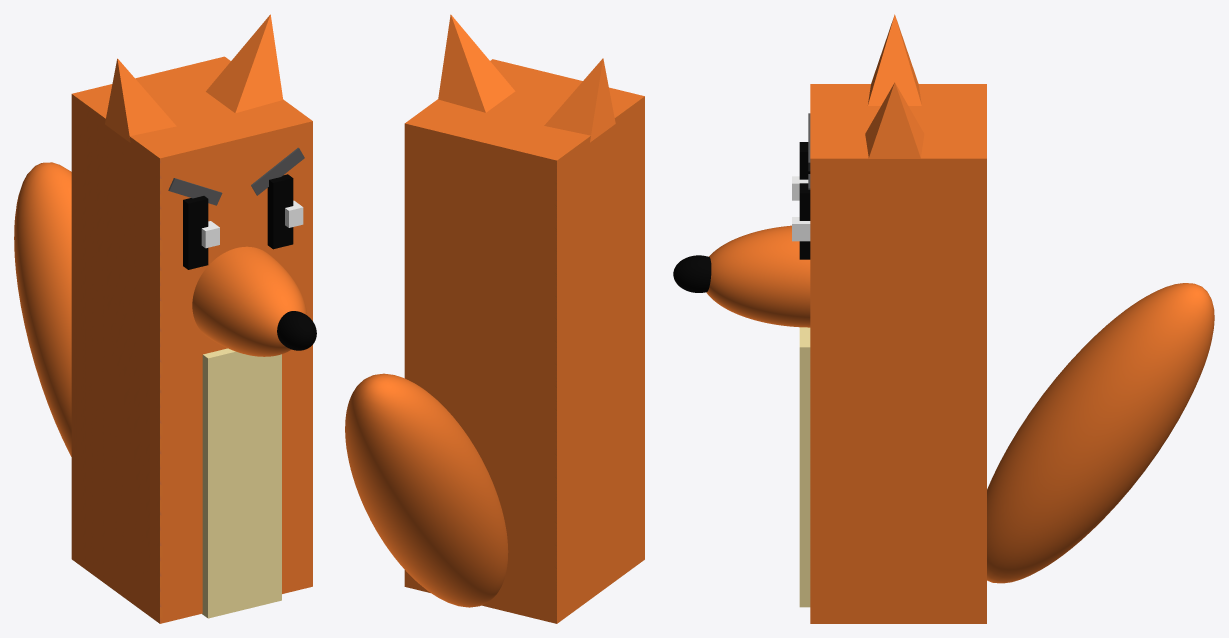
The model's file is Fox.fbx.
3 renders of one model, left to right at view 1: azimuth 30°, elevation 25°; view 2: azimuth 150°, elevation 25°; view 3: azimuth 270°, elevation 25°, orthographic.
Parts seen in each view (by area): view 1: node_id45 (×5), node_id62 (×2), node_id48, node_id46, node_id56 (×2), node_id53; view 2: node_id45 (×2), node_id48, node_id46; view 3: node_id45 (×3), node_id62 (×2), node_id48, node_id46.
Part boxes in pixels (<box>): node_id45 (×5): <box>14,56,312,623</box>; node_id62 (×2): <box>192,246,316,356</box>; node_id48: <box>206,14,283,113</box>; node_id46: <box>105,58,176,142</box>; node_id56 (×2): <box>183,196,219,269</box>; node_id53: <box>267,174,293,249</box>; node_id45 (×2): <box>345,59,644,623</box>; node_id48: <box>438,14,515,112</box>; node_id46: <box>544,58,615,142</box>; node_id45 (×3): <box>799,84,1214,623</box>; node_id62 (×2): <box>673,225,810,327</box>; node_id48: <box>865,82,924,158</box>; node_id46: <box>867,14,921,105</box>.
Bounding box in the file's own units: 0.1061 × 0.3586 × 0.3242.
Materials: 11 (11 with a texture image).
